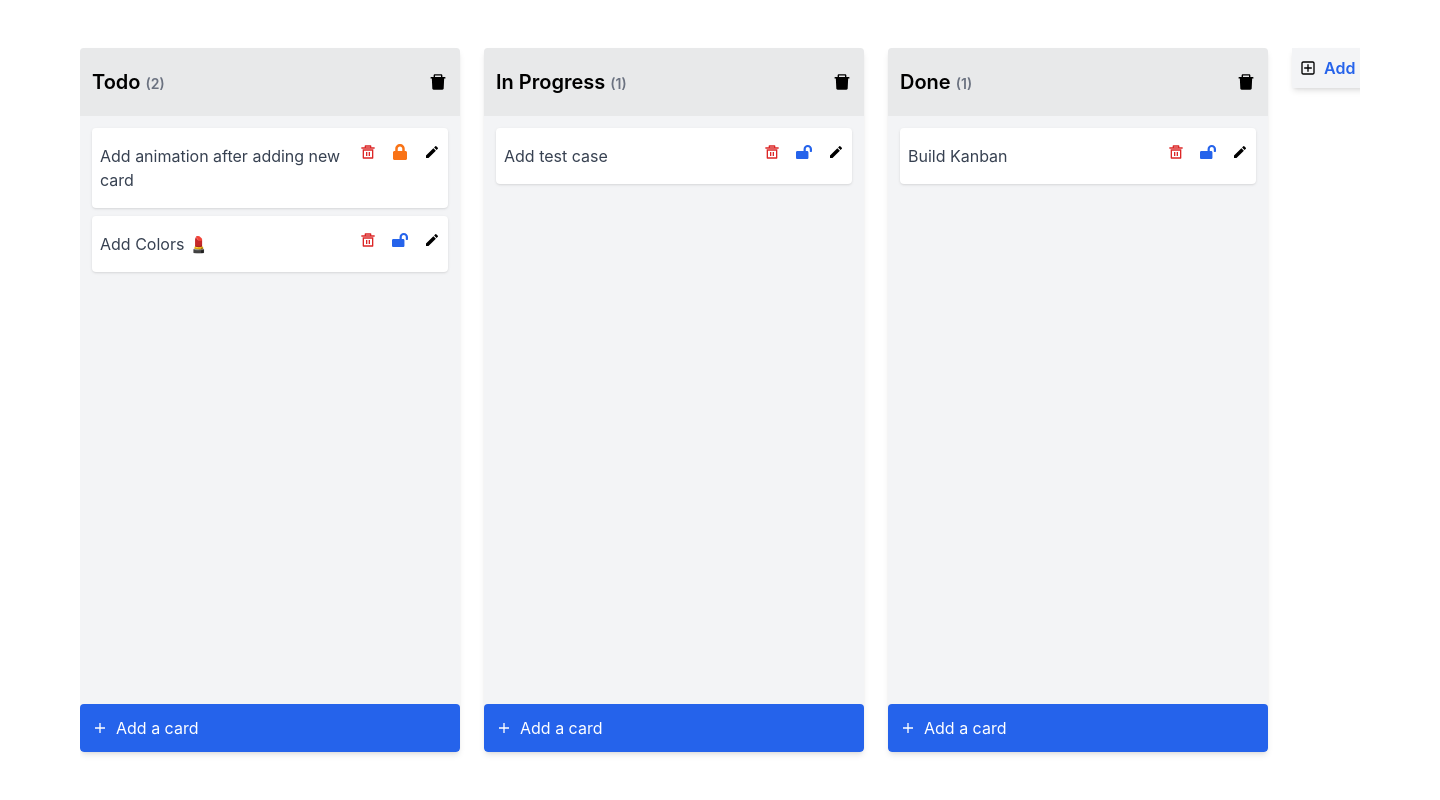
Kanban › Task › should add a new task to first column
The width and height of the screenshot is (1440, 800).
Click the 1st element with test id "add-card-button" at {"x": 270, "y": 728}, box [80,704,460,752]
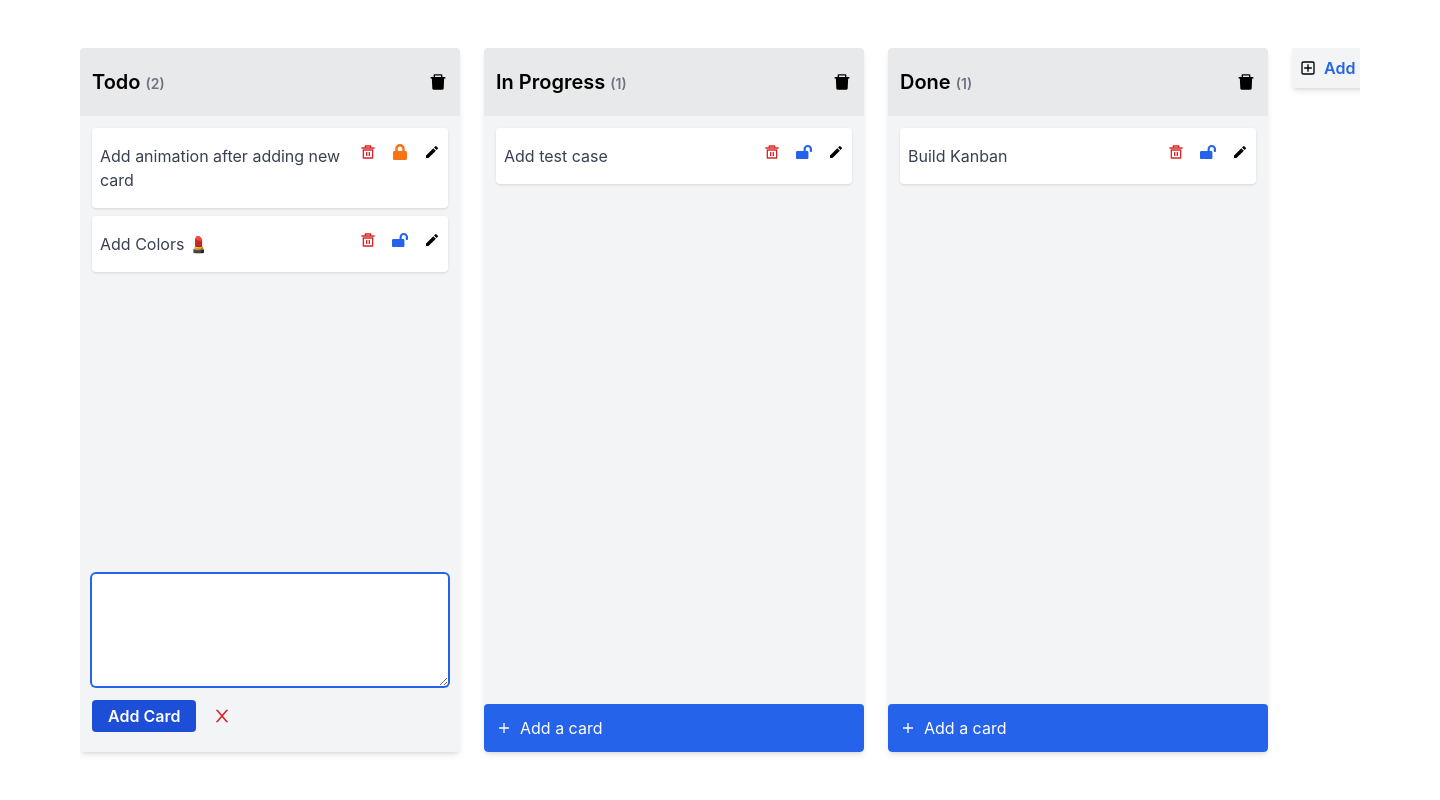
Type "cypress task" into the text box with test id "card-name-input" at {"x": 270, "y": 630}, box [92,574,448,686]
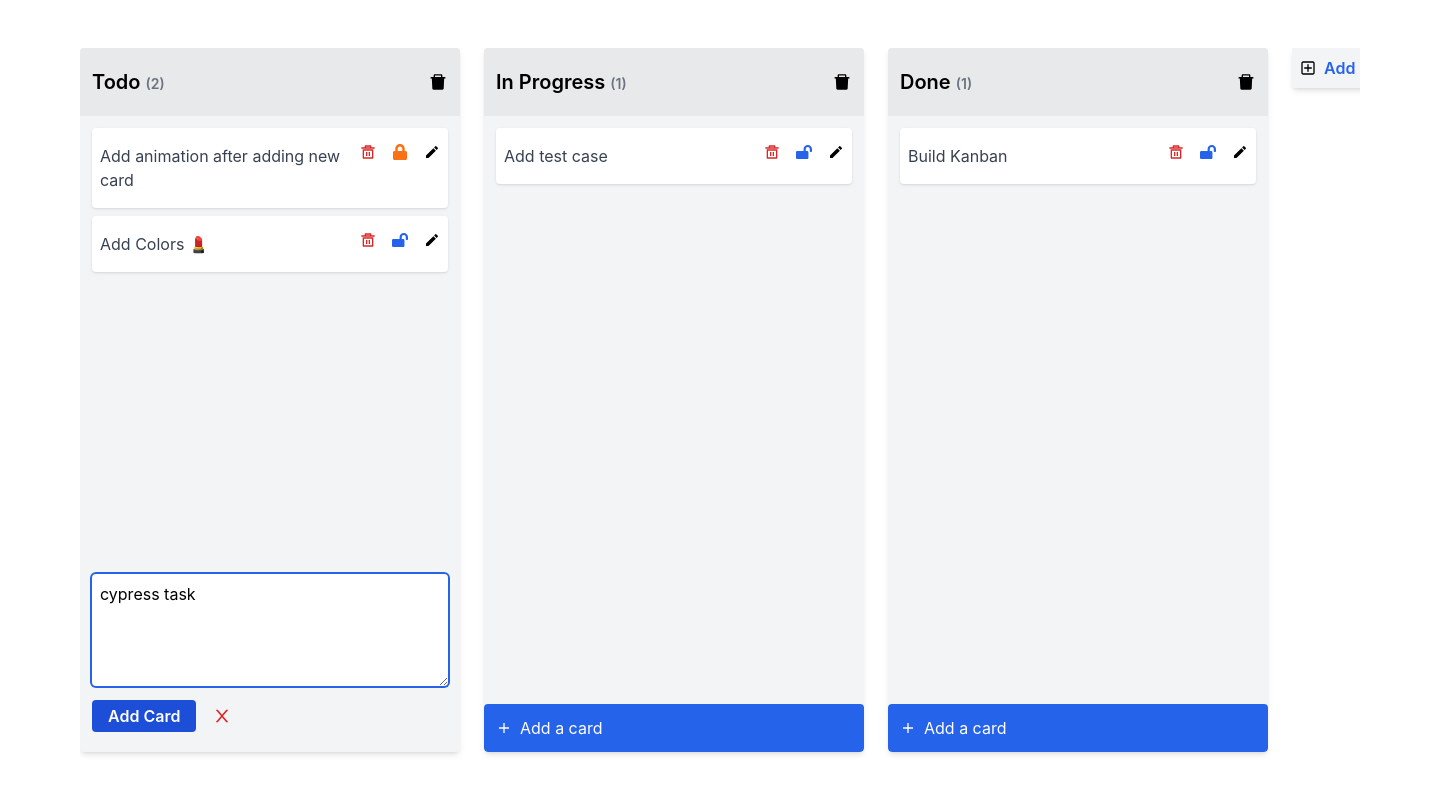
Press Enter in the text box with test id "card-name-input", box [92,574,448,686]
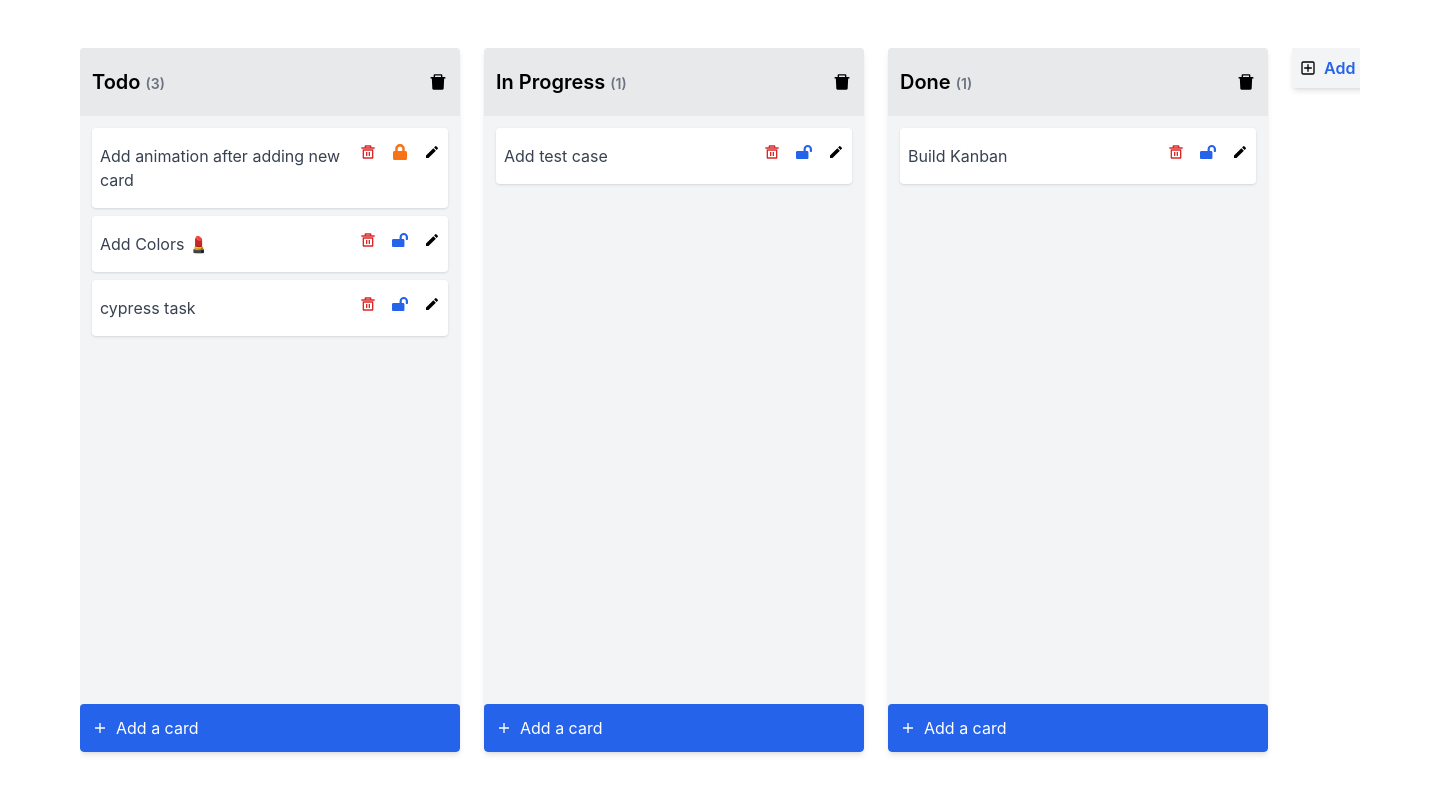
Expected: the text "cypress task" is shown, [100,296,196,320]
